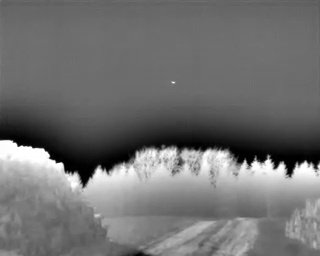AIRPLANE: (170, 78, 177, 86)
